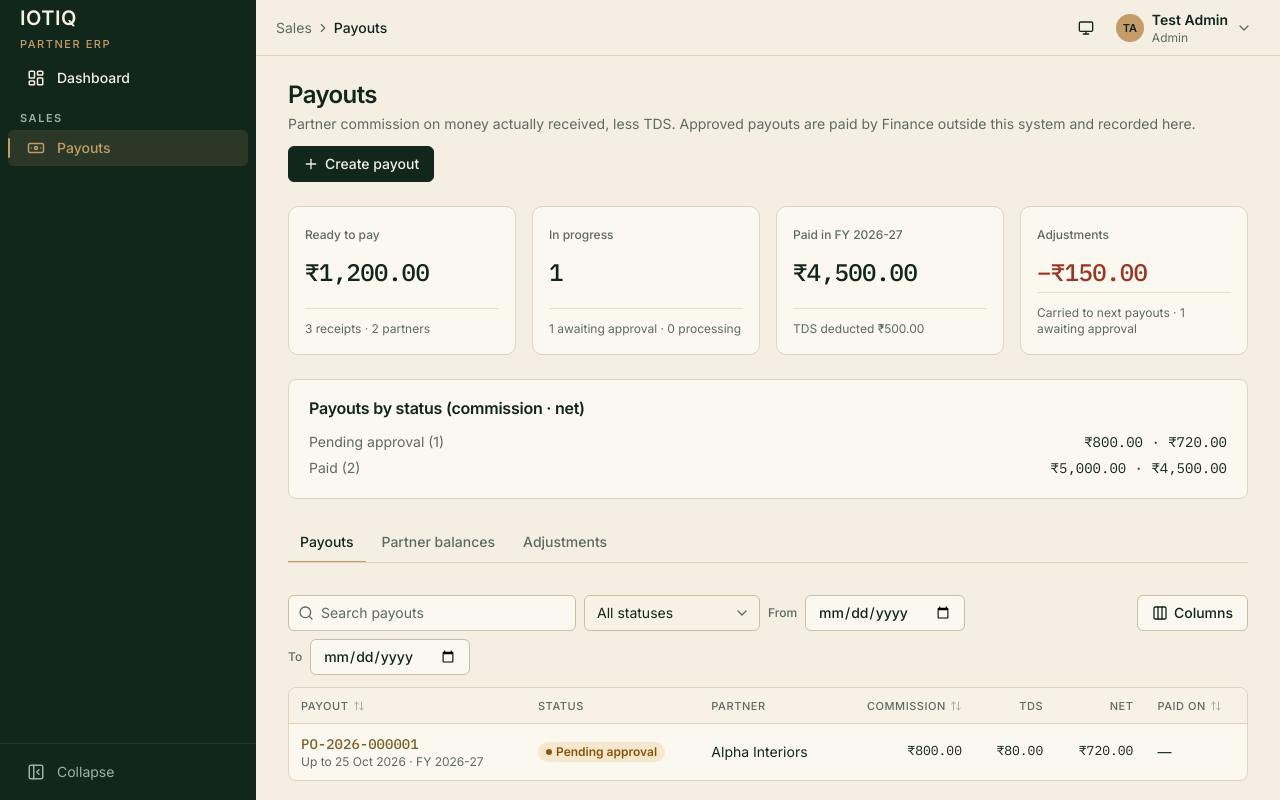
Scenario: creating a payout › previews the payout with its blockers and creates a draft with an idempotency key
The width and height of the screenshot is (1280, 800).
Later steps or results of the test are not shown.
Step 1. Click the button "Create payout" → (361, 164), box [288,146,434,182]
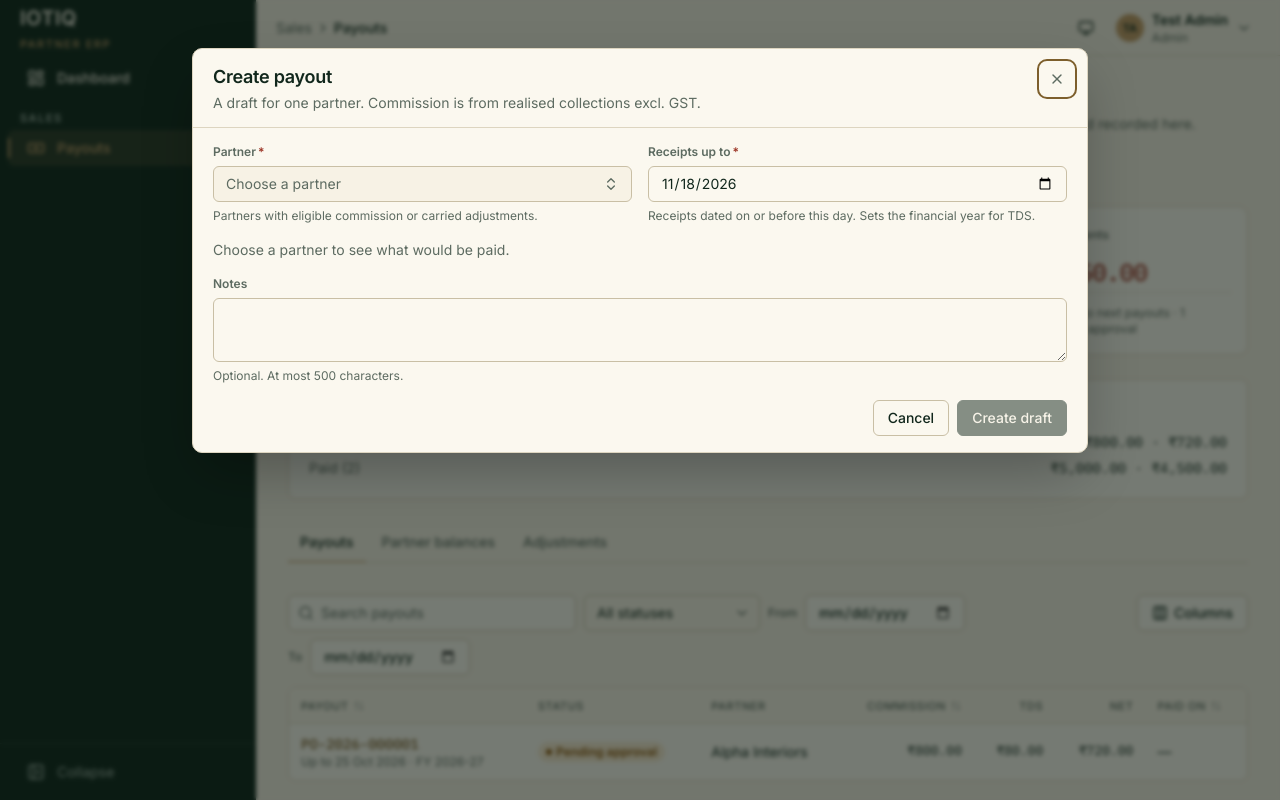
Step 2. Click the dropdown labelled "Choose a partner" → (283, 184), box [213,166,632,202]
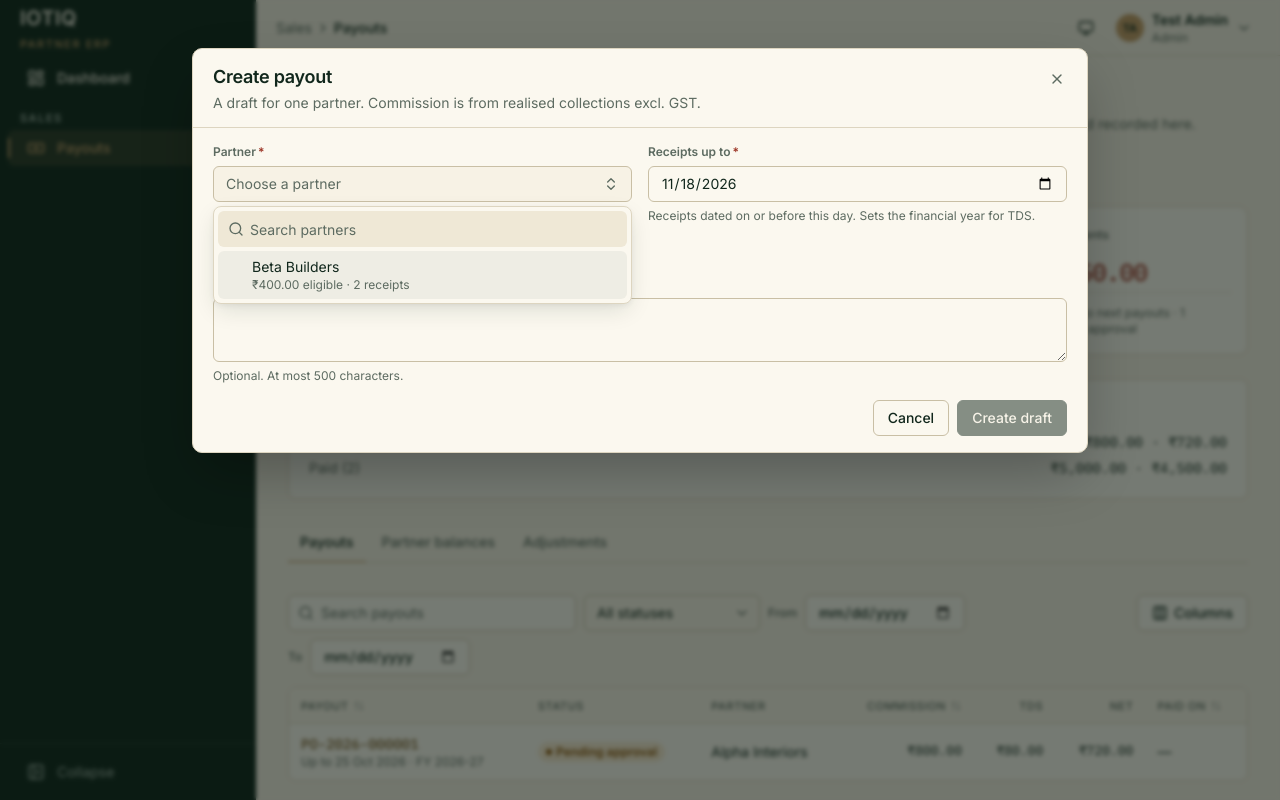
Step 3. Click the option "Beta Builders ₹400.00 eligible · 2 receipts" → (296, 266), box [218,251,627,299]
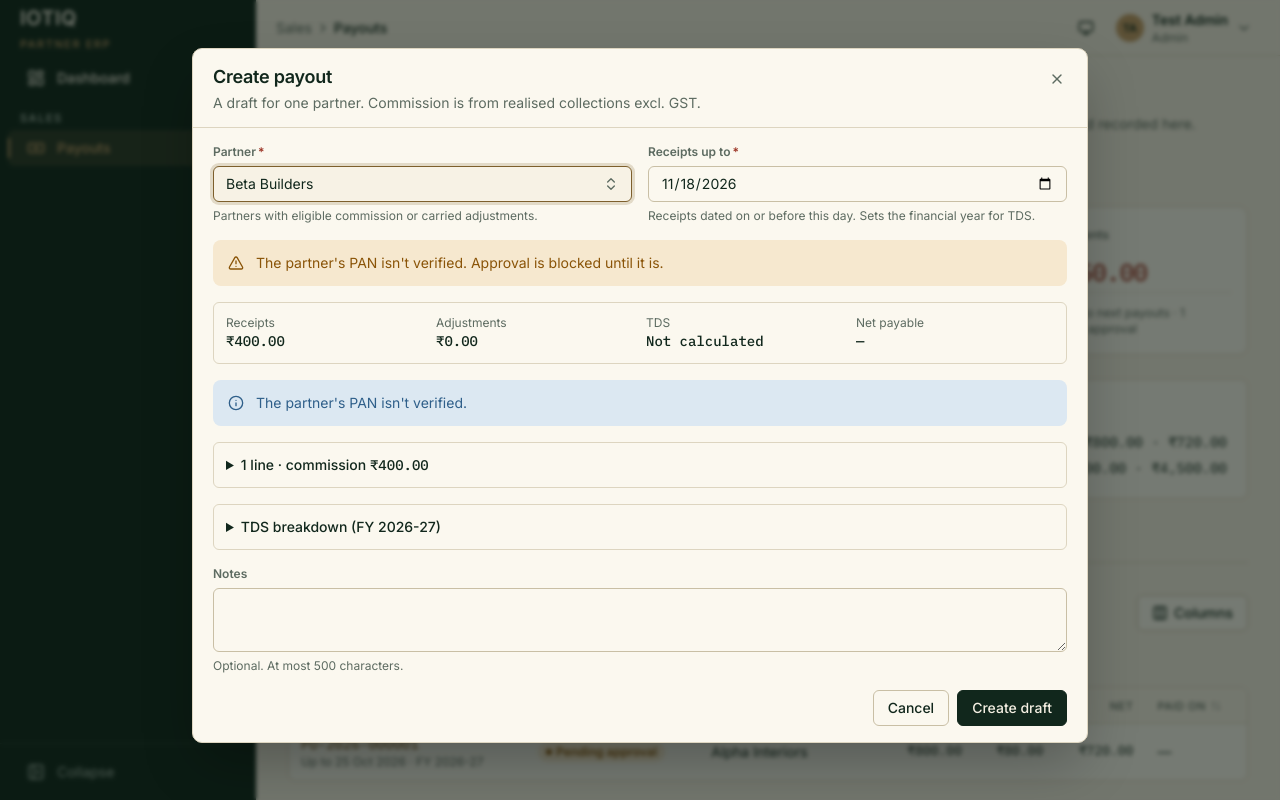
Expected: the text "Approval is blocked until it is" is shown, [256,254,664,271]
Expected: the text "Not calculated" is shown, [646,332,764,350]
